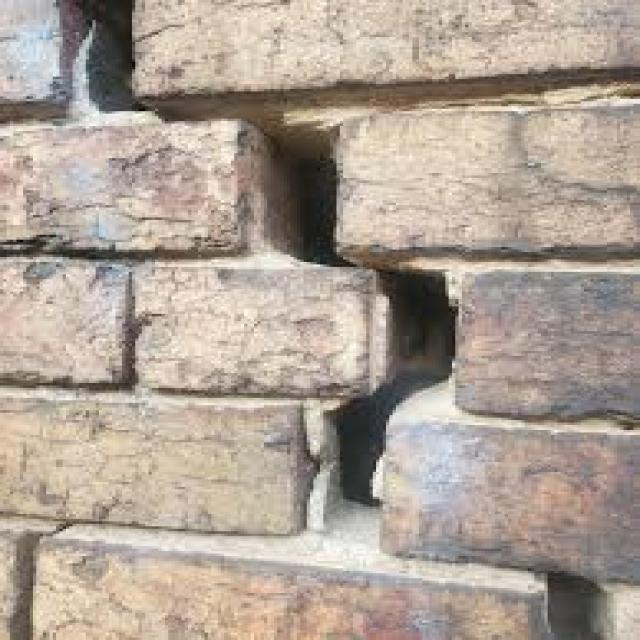Crack: (56, 0, 614, 638)
